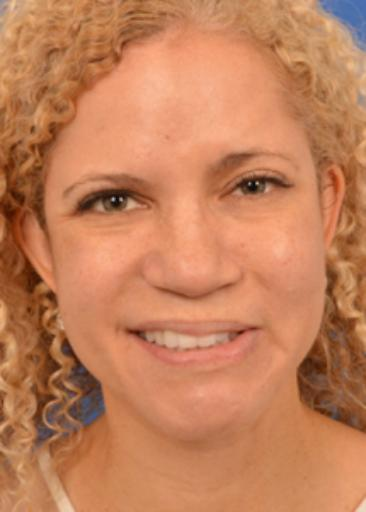left_eye: (219, 171, 291, 205)
left_lip_corner: (239, 319, 262, 344)
right_eye: (69, 189, 156, 219)
right_lip_corner: (122, 321, 140, 344)
